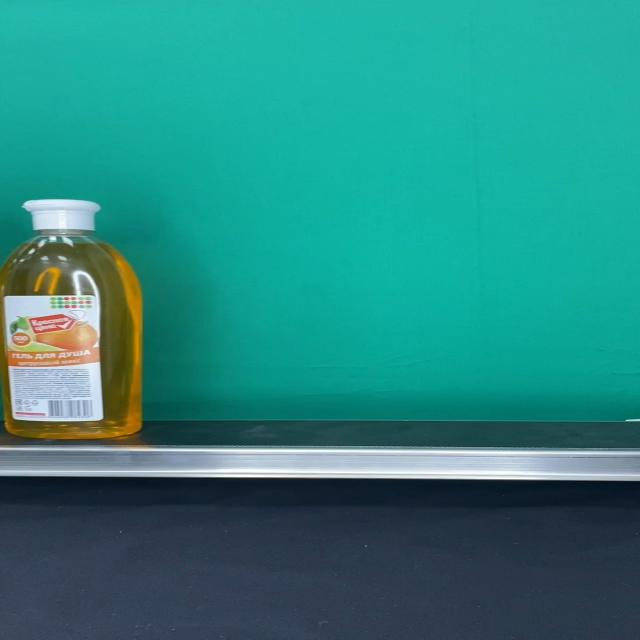Bottle: (0, 198, 143, 439)
Cap: (21, 199, 100, 231)
